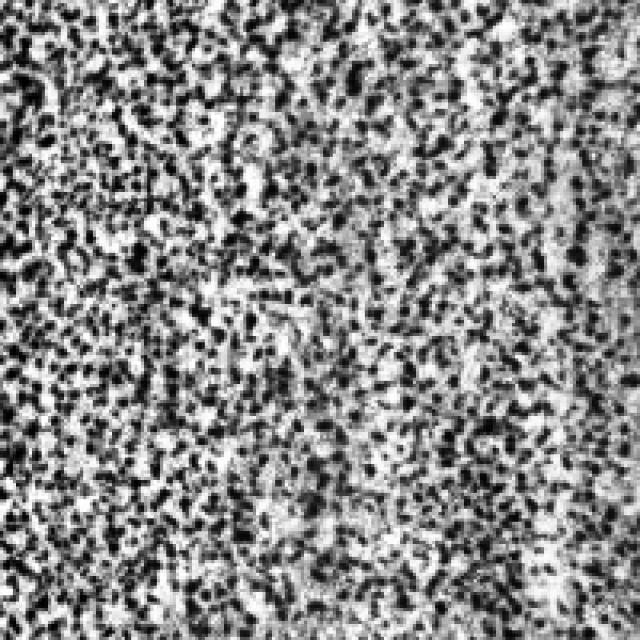Rolled_in_Scale: (3, 13, 621, 621)
